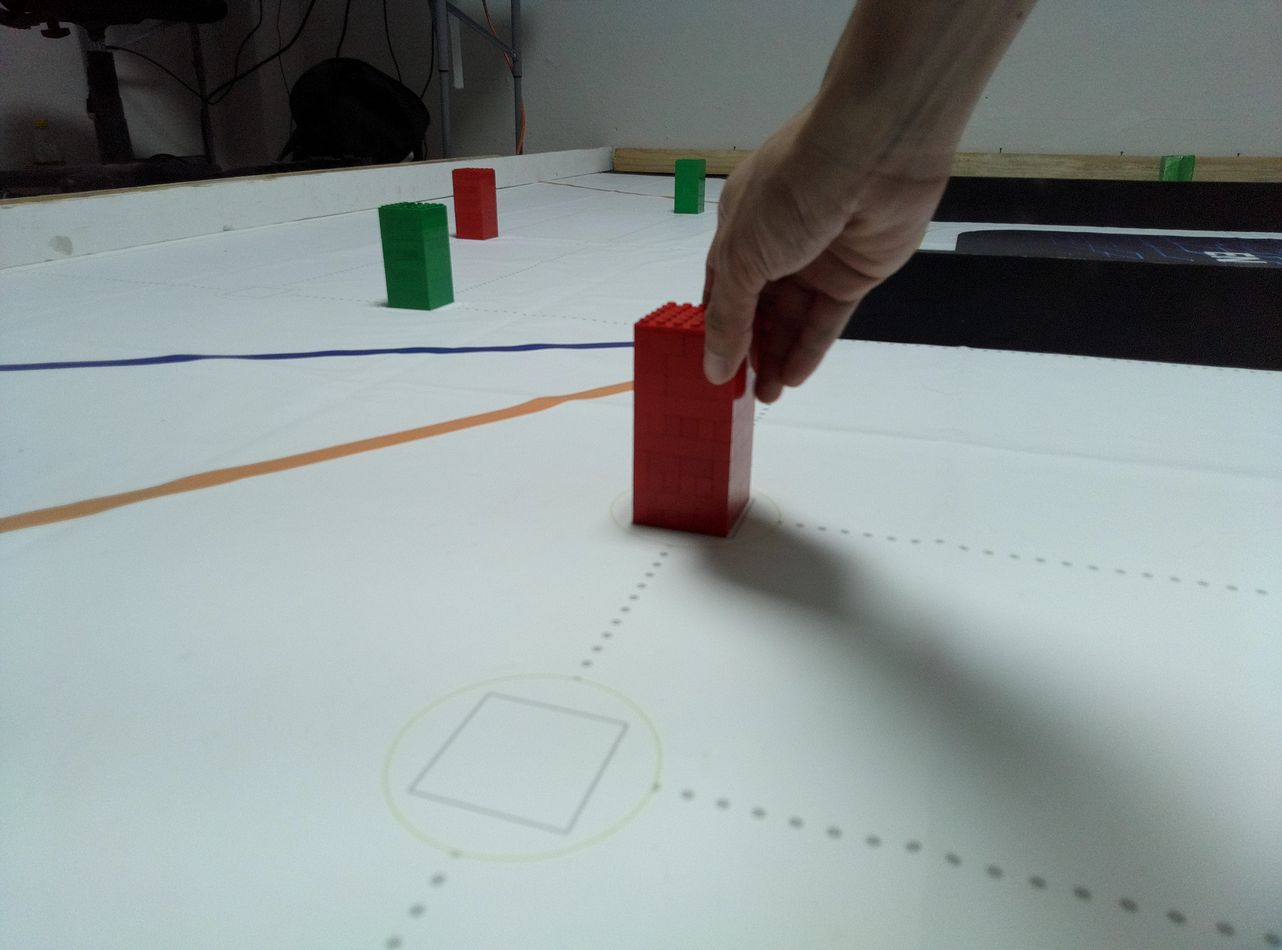greenbox: (378, 200, 455, 312), (673, 158, 708, 215), (1157, 154, 1196, 183)
redbox: (630, 290, 757, 543), (451, 167, 499, 241)
